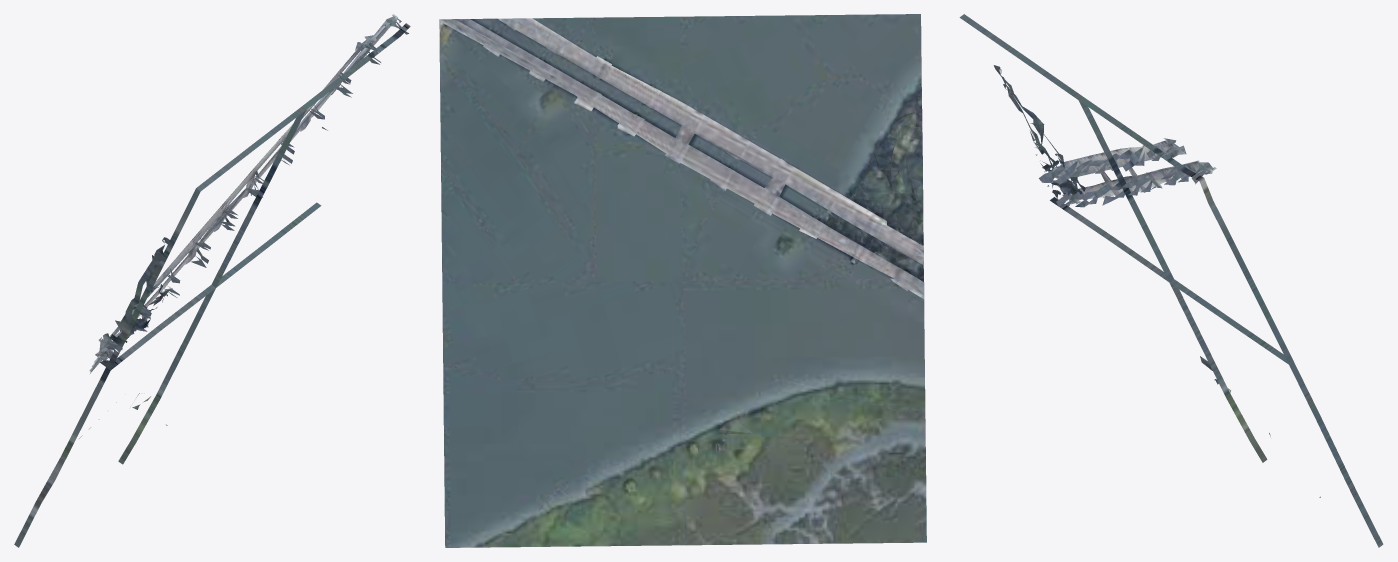
3 renders of one model, left to right at view 1: azimuth 30°, elevation 25°; view 2: azimuth 150°, elevation 25°; view 3: azimuth 270°, elevation 25°, orthographic. The views are drawn at different scales.
Bounding box in the file's own units: 611 × 564 × 514.
Materials: 1 (1 with a texture image).
